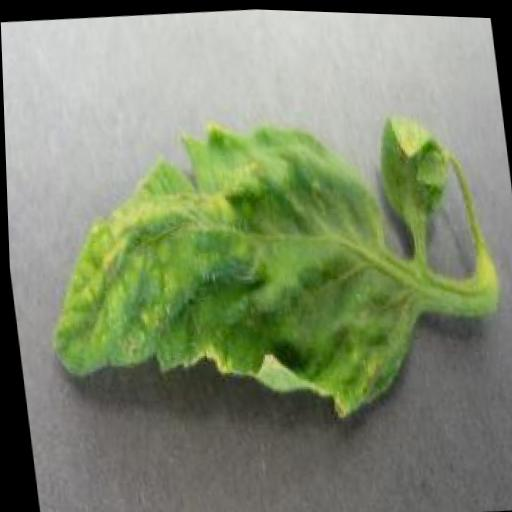Yellow Leaf Curl Virus: (27, 111, 414, 444)
